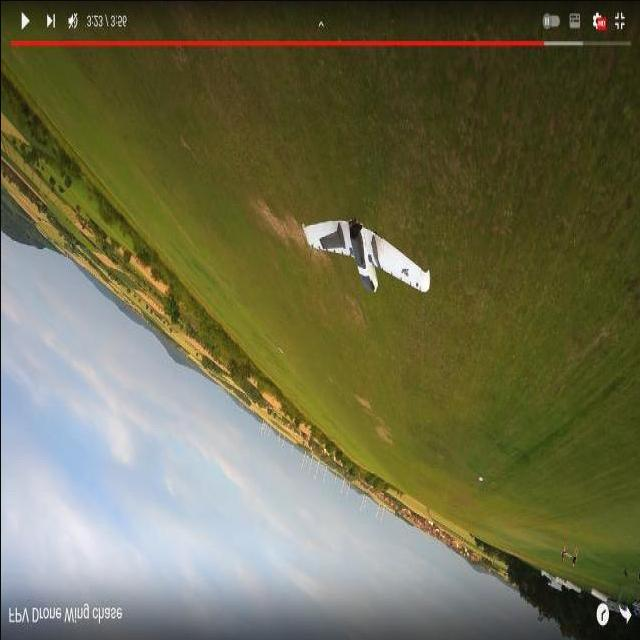plane: (299, 216, 430, 295)
